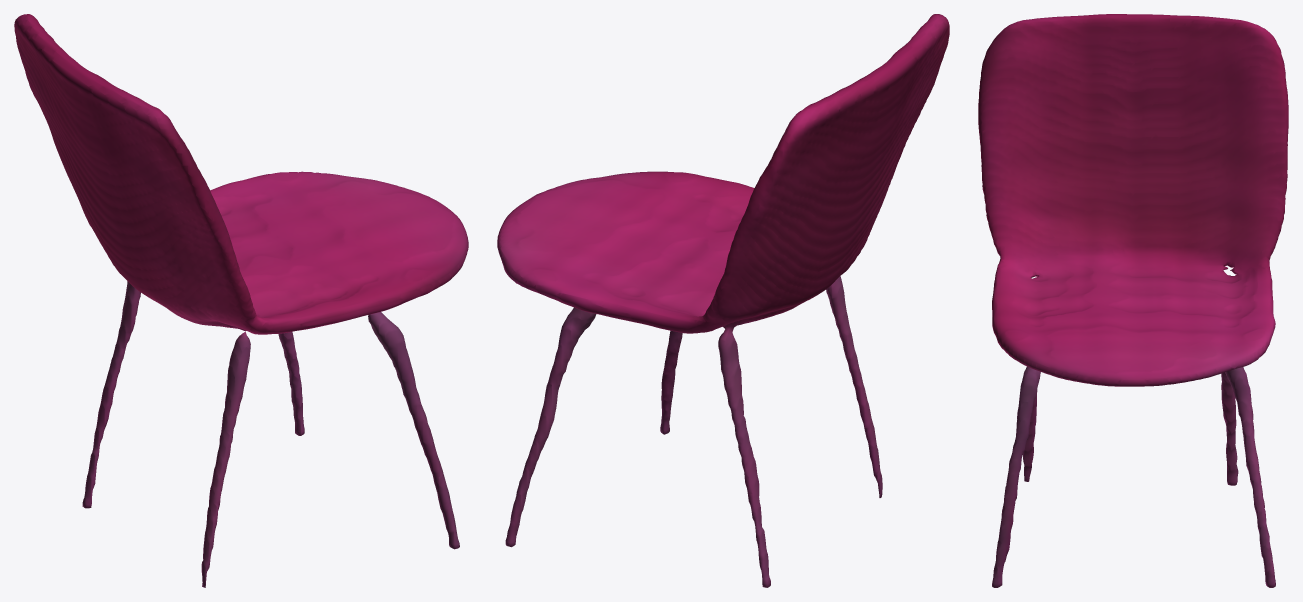
Rendered from A pink color moiled chair has a leg and comfortabl.glb.
3 views of the same model, side by side, from view 1: azimuth 30°, elevation 25°; view 2: azimuth 150°, elevation 25°; view 3: azimuth 270°, elevation 25° (orthographic). The views are drawn at different scales.
Visible parts, largest first — view 1: A pink color moiled chair has a leg and comfortabl; view 2: A pink color moiled chair has a leg and comfortabl; view 3: A pink color moiled chair has a leg and comfortabl.
Part boxes in pixels (left/top/right/bottom): A pink color moiled chair has a leg and comfortabl: left=14, top=14, right=468, bottom=587; A pink color moiled chair has a leg and comfortabl: left=497, top=14, right=949, bottom=587; A pink color moiled chair has a leg and comfortabl: left=978, top=14, right=1288, bottom=587.
Size of the model in its own units: 1.59 by 1.98 by 1.26.
